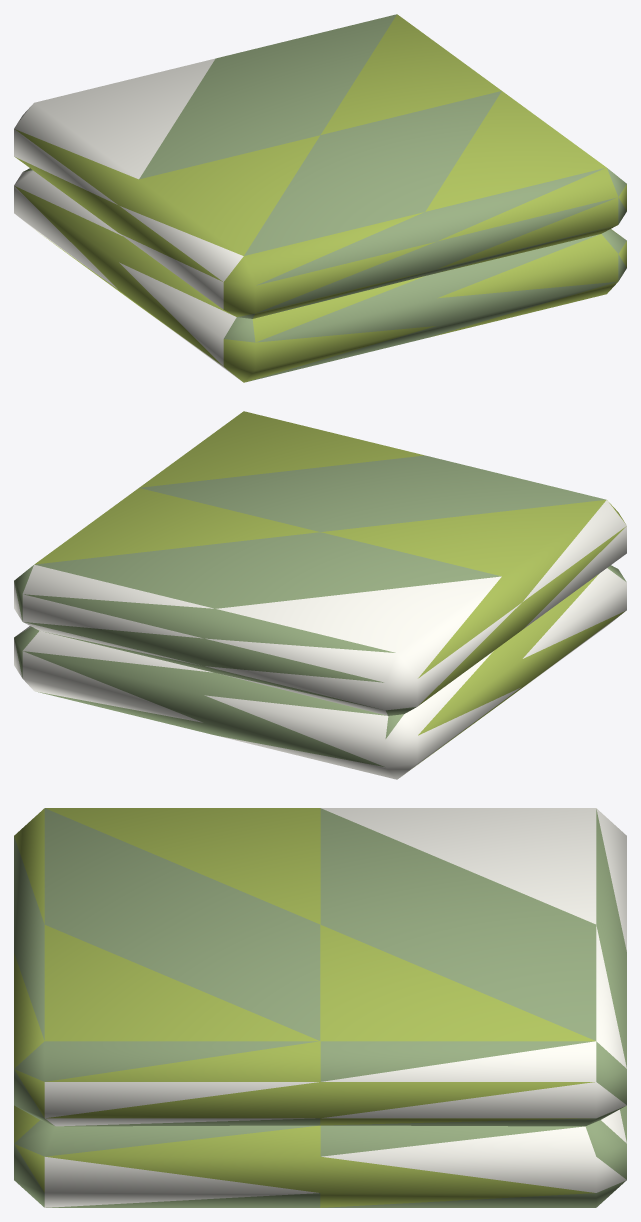
Rendered from itch_tiny_pleasant_picnic_picnic_blanket_green_folded.glb.
3 renders of one model, top to bottom at view 1: azimuth 30°, elevation 25°; view 2: azimuth 150°, elevation 25°; view 3: azimuth 270°, elevation 25°, orthographic. The views are drawn at different scales.
Parts seen in each view (by area): view 1: picnic_blanket_green_folded; view 2: picnic_blanket_green_folded; view 3: picnic_blanket_green_folded.
Part boxes in pixels (<box>): picnic_blanket_green_folded: <box>14,14,626,382</box>; picnic_blanket_green_folded: <box>14,411,626,779</box>; picnic_blanket_green_folded: <box>14,808,626,1207</box>.
Size of the model in its own units: 0.96 by 0.288 by 0.96.
